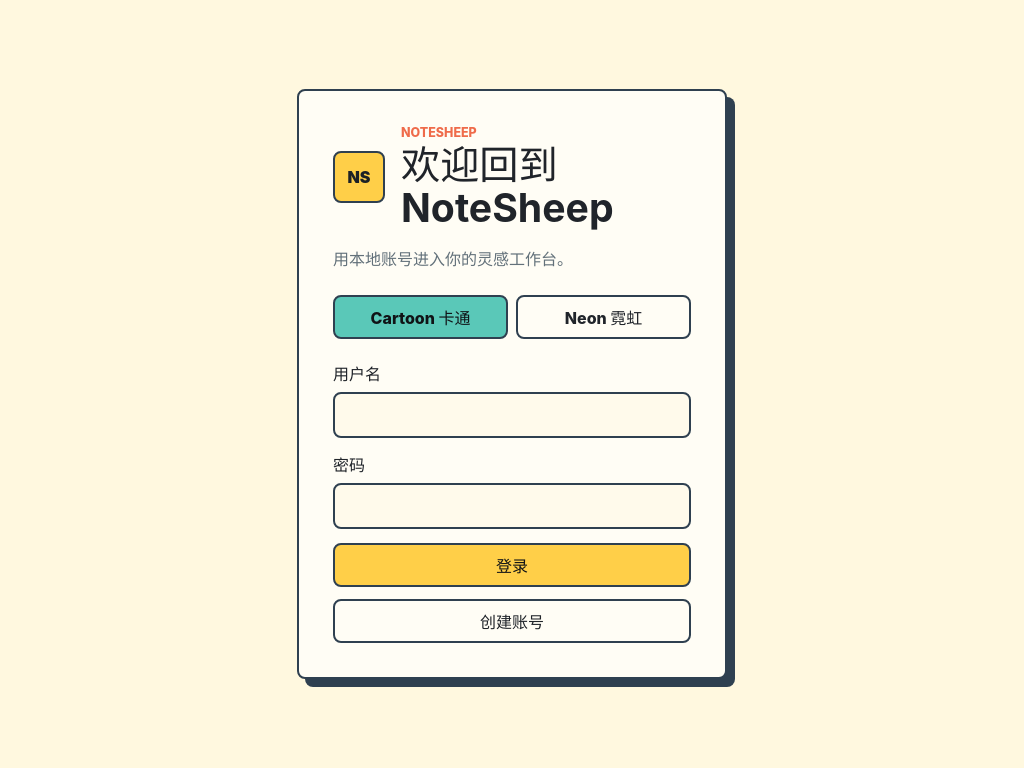
Workspace shell › shows a notebook content load error when the selected tree cannot be read
Type "note-taker" into the field labelled "用户名" at (512, 415), box [333,392,691,438]
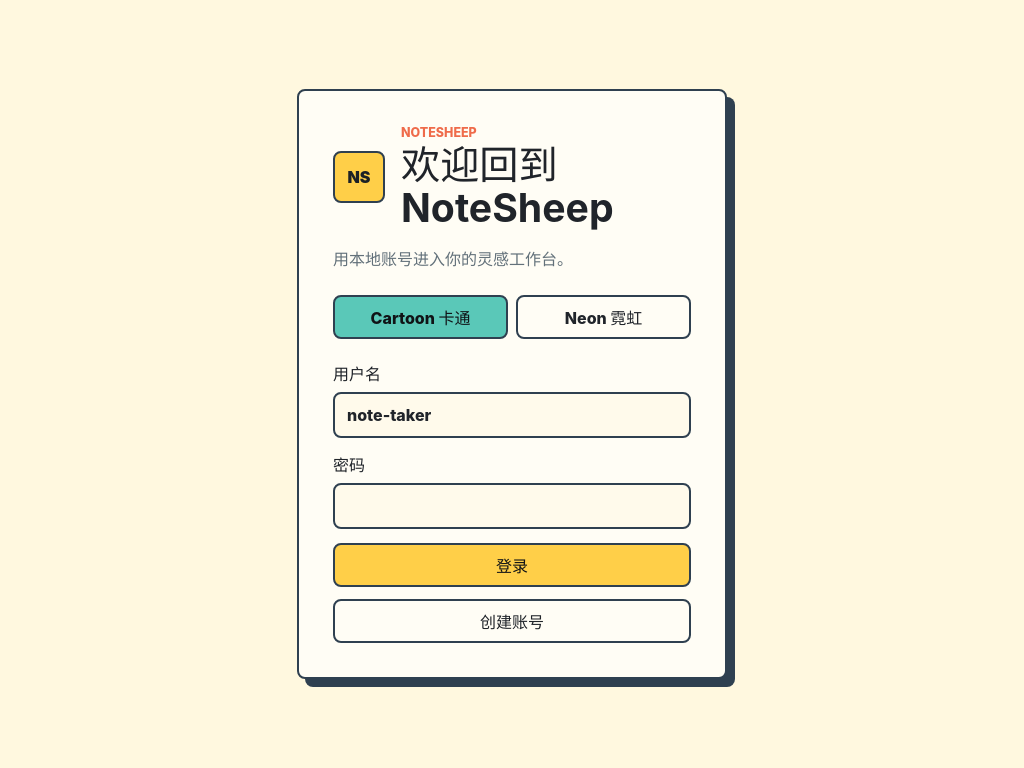
Type "secret1" into the password field labelled "密码" at (512, 506), box [333,483,691,529]
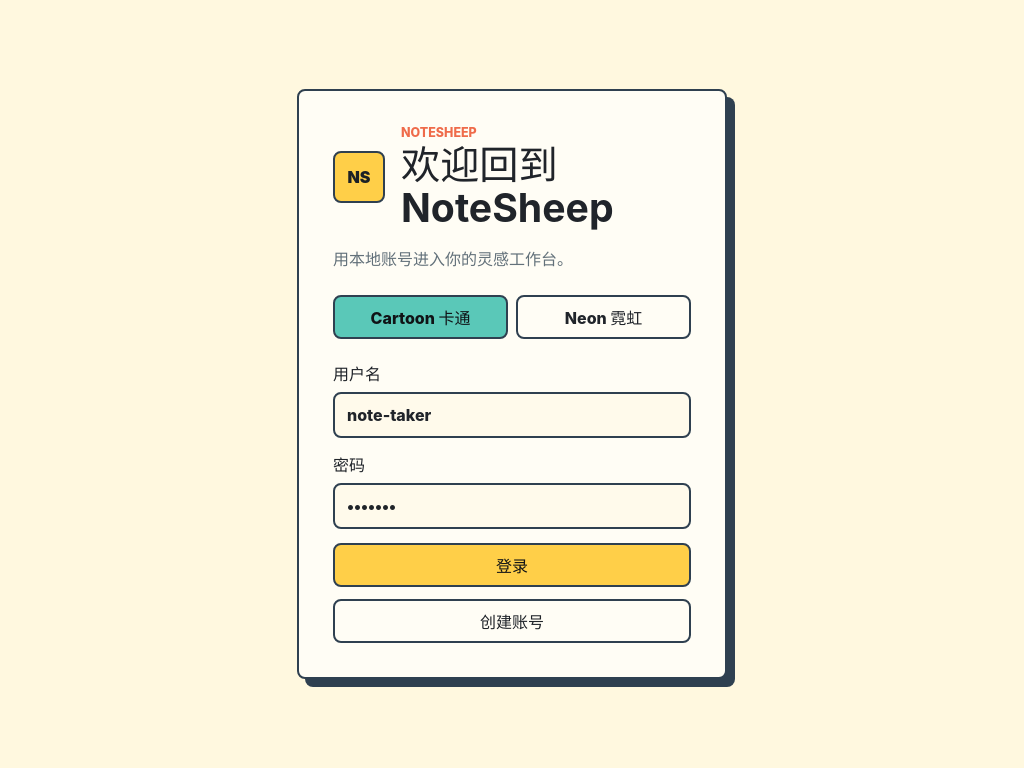
Click the button "登录" at (512, 565), box [333,543,691,587]
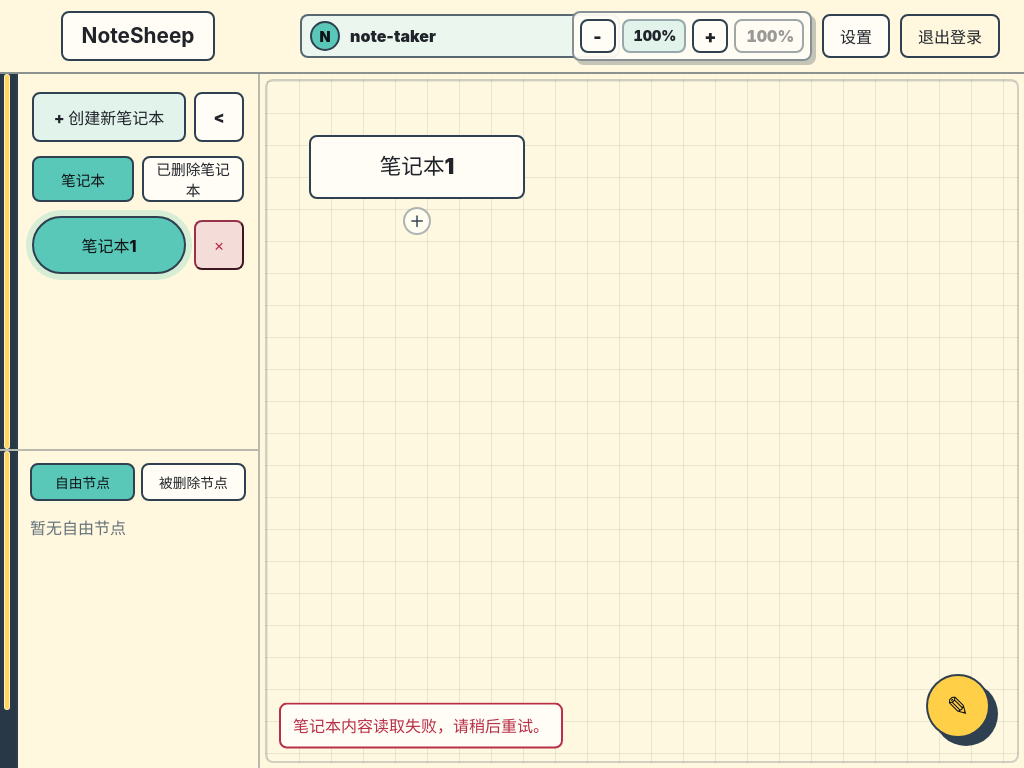
Expected: the button with aria-label "打开笔记本 笔记本1" is shown, [32,216,186,274]
Expected: the text "笔记本内容读取失败，请稍后重试。" is shown, [279,703,563,749]
